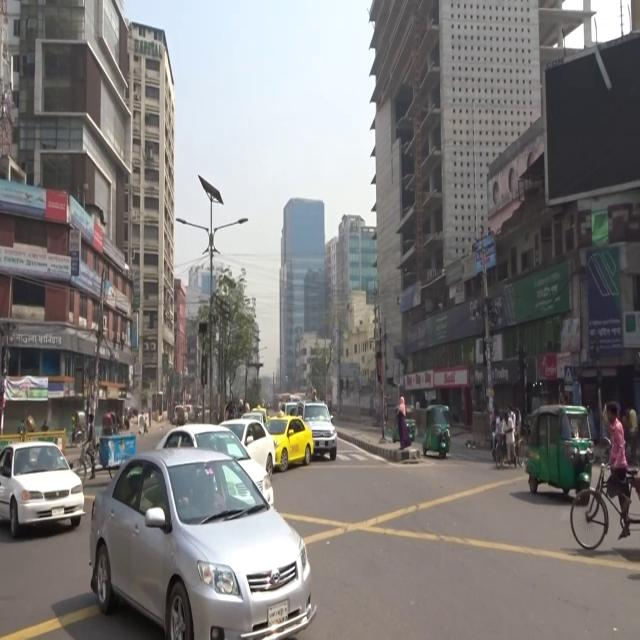silver: (90, 441, 316, 640), (296, 388, 340, 458)
